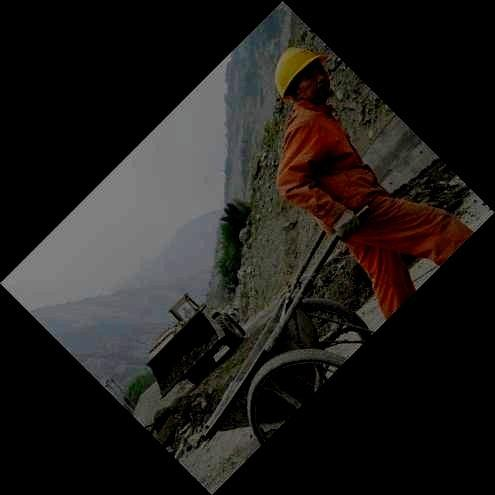helmet: (273, 45, 331, 100)
